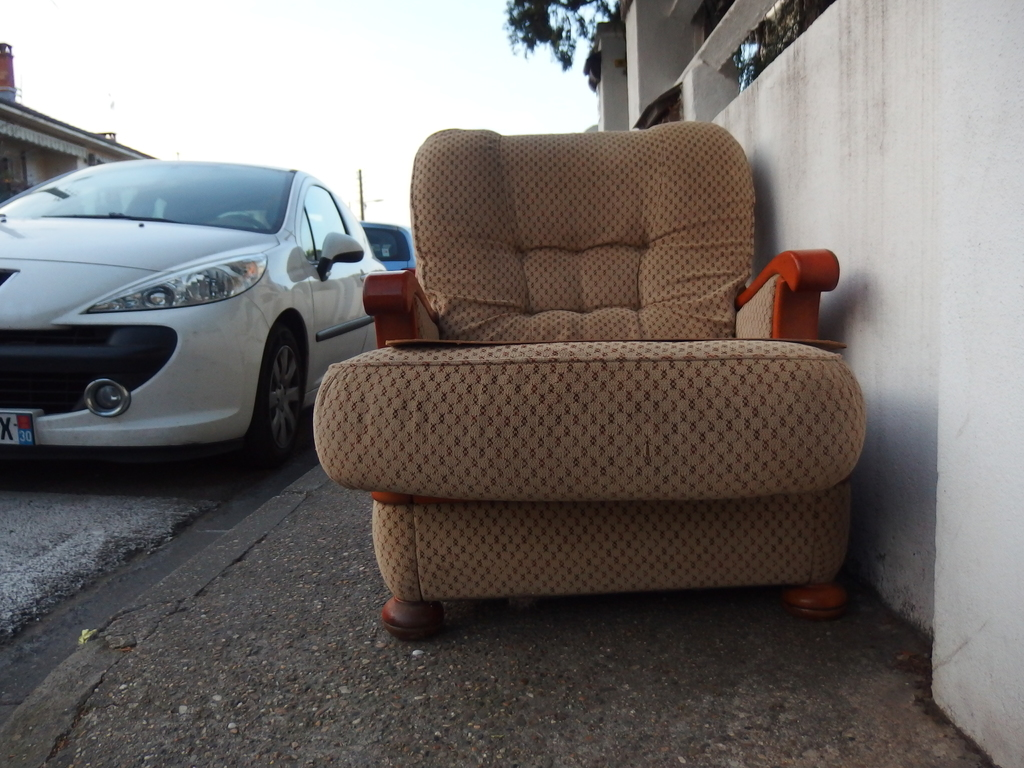Car: (0, 144, 388, 474), (355, 217, 416, 277)
